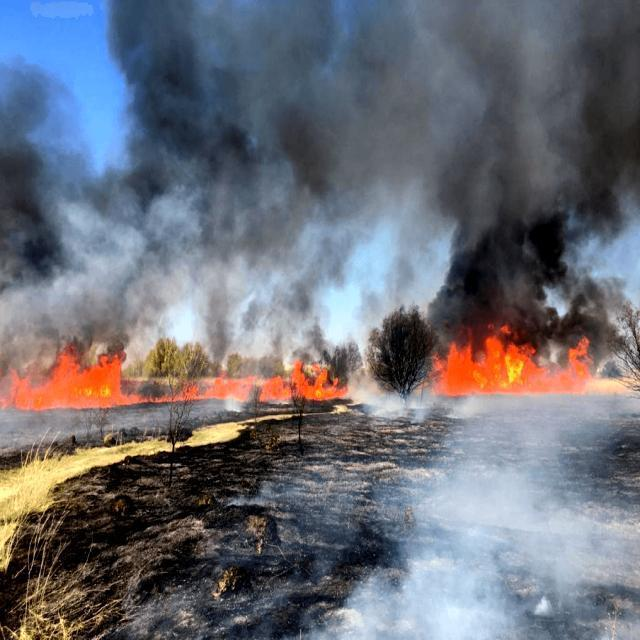Fire: (436, 335, 625, 400), (4, 333, 134, 414), (135, 360, 351, 408)
Smoke: (2, 0, 624, 350), (274, 406, 635, 640)
